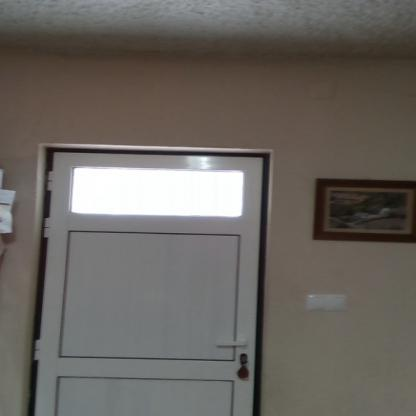door: (36, 156, 258, 415)
hinged: (42, 215, 52, 240), (34, 336, 42, 362), (45, 170, 54, 192)
lever: (216, 338, 250, 349)
